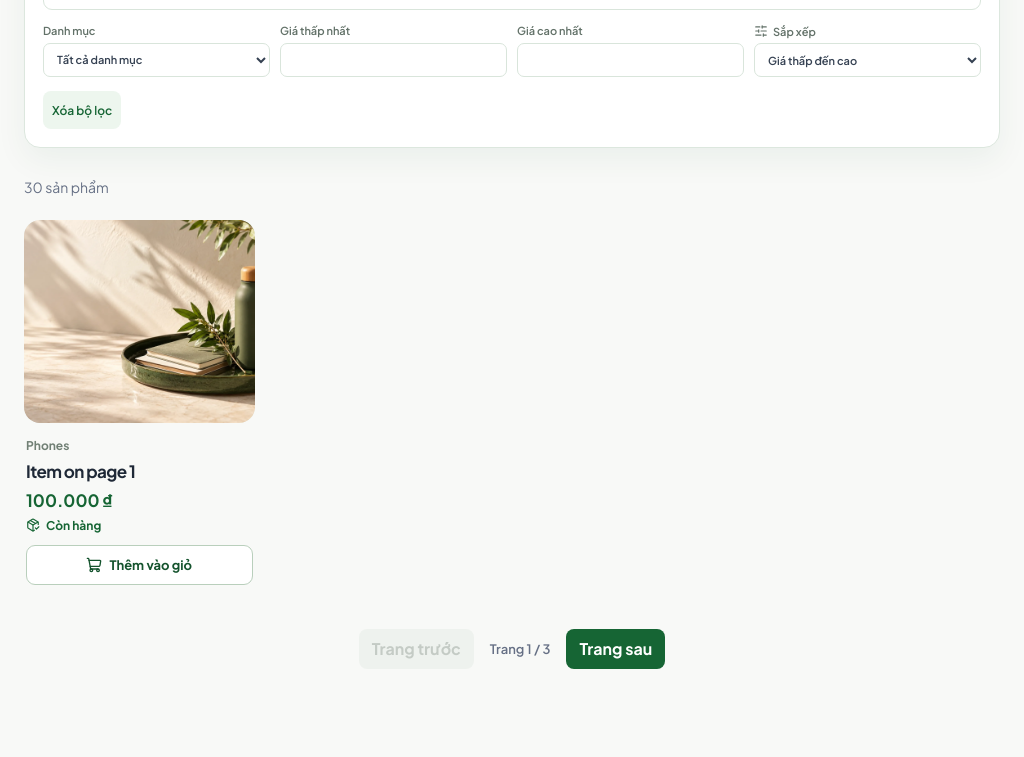
Test: storefront shop (offset sort) › scrolls the list into view when the page changes, but not on first load
The width and height of the screenshot is (1024, 757).
(page scrolled)
Check: the link "Item on page 1" is shown, box [26,460,135,482]
Click the button "Trang sau" at (616, 649), box [566,629,665,669]
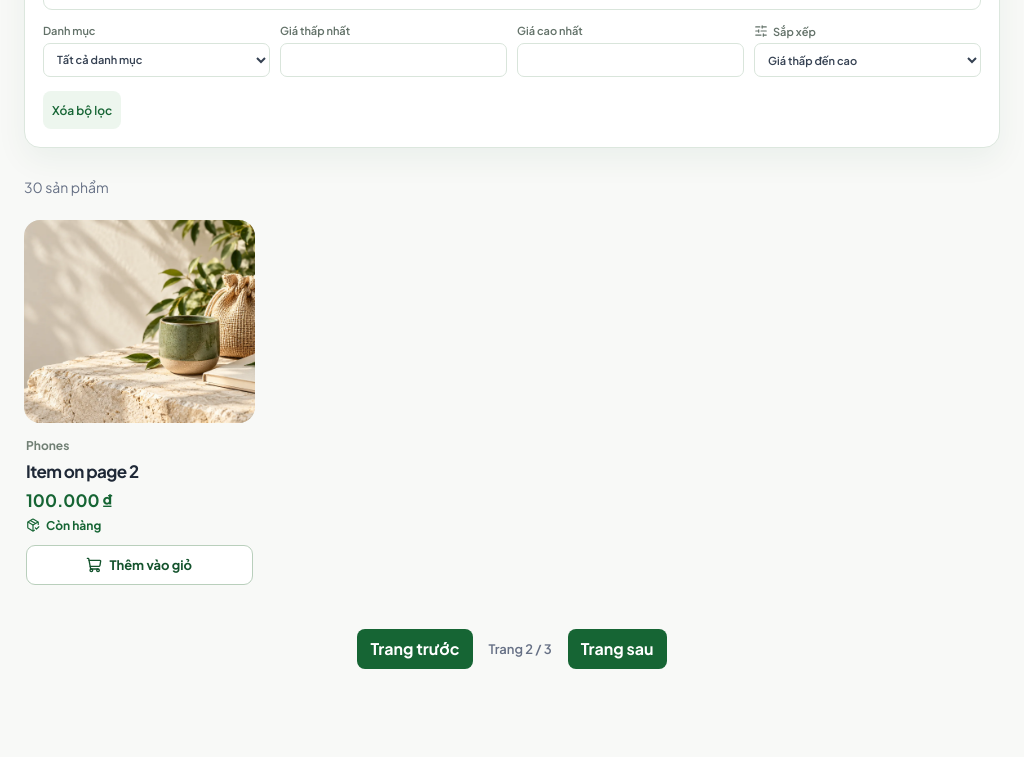
Check: the link "Item on page 2" is shown, box [26,460,139,482]
